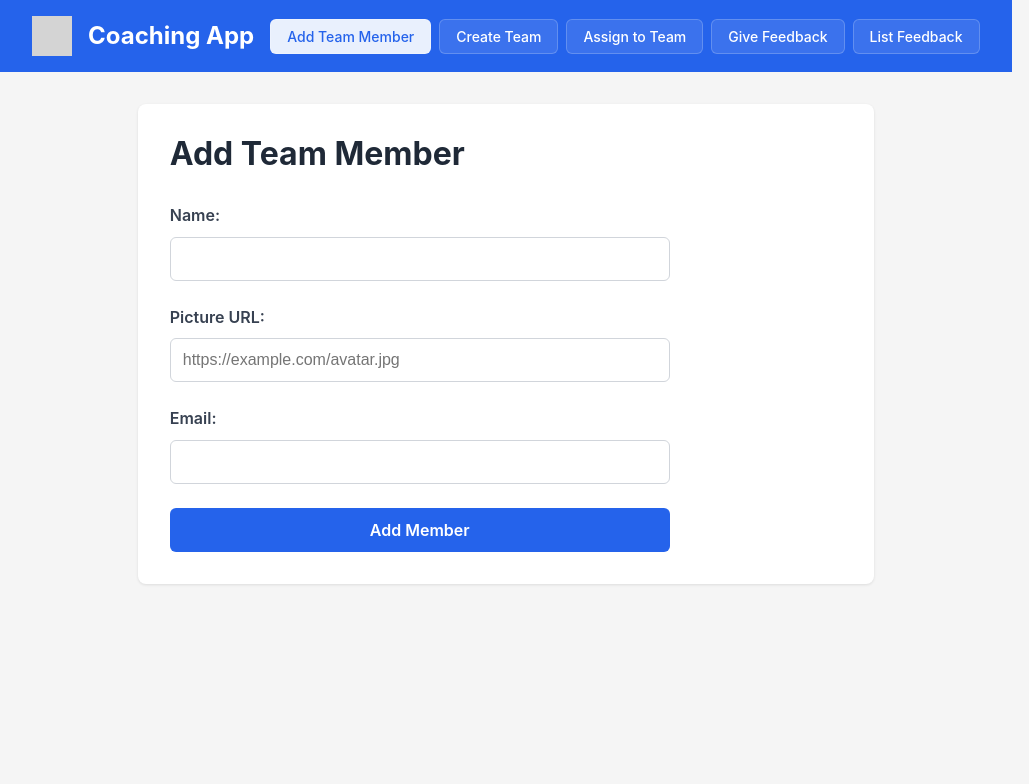
Test: App › should navigate to Give Feedback page when button is clicked
Step 1. Click the button "Give Feedback" → (778, 36), box [711,18,844,54]
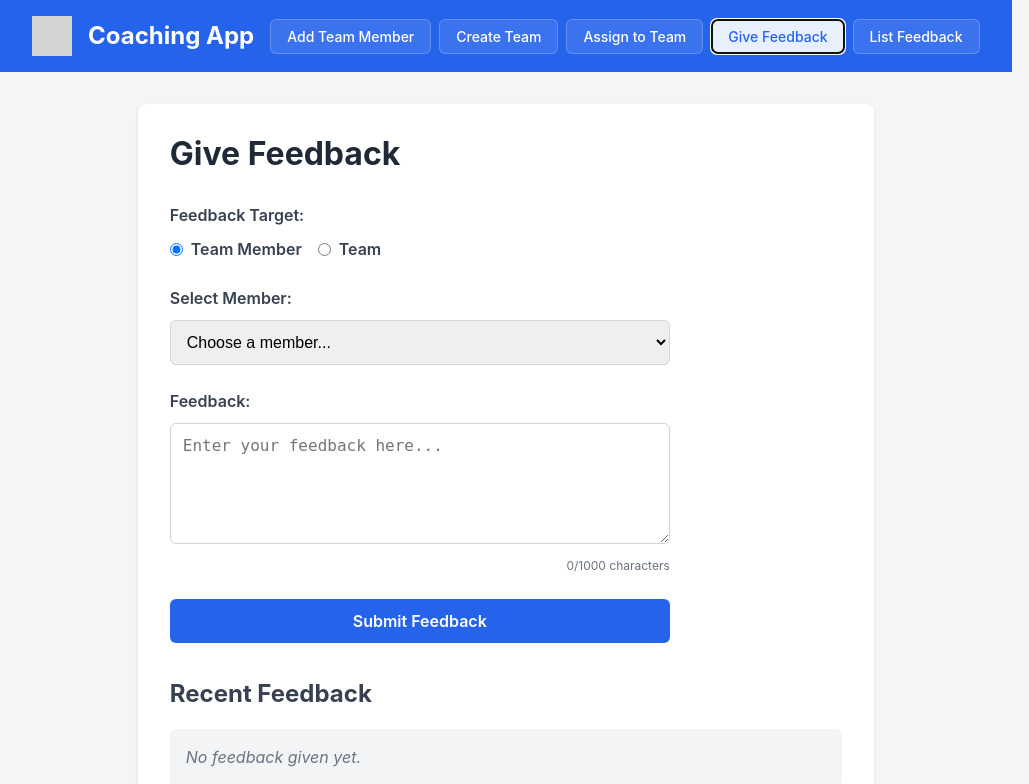
Expected: the heading "Give Feedback" is shown, [170,134,400,173]
